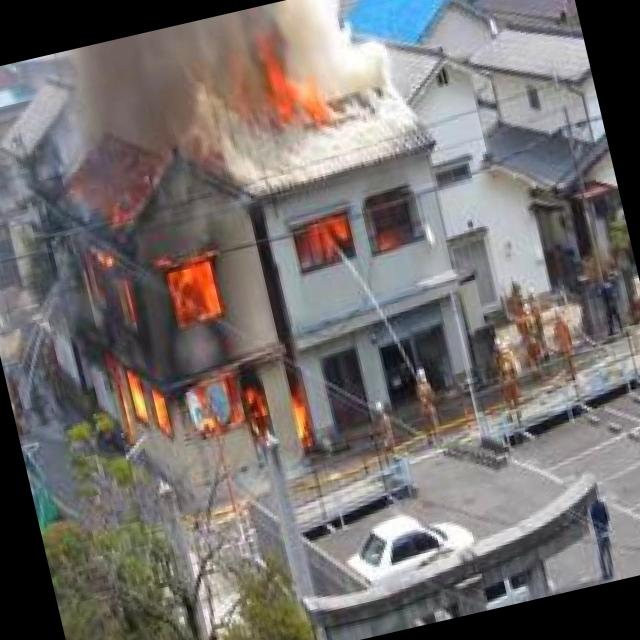Fire: (238, 15, 352, 140), (164, 256, 230, 331), (288, 203, 356, 272), (283, 376, 324, 456), (236, 380, 279, 450), (124, 363, 154, 426), (149, 390, 174, 437)
Smoke: (60, 0, 419, 226)
